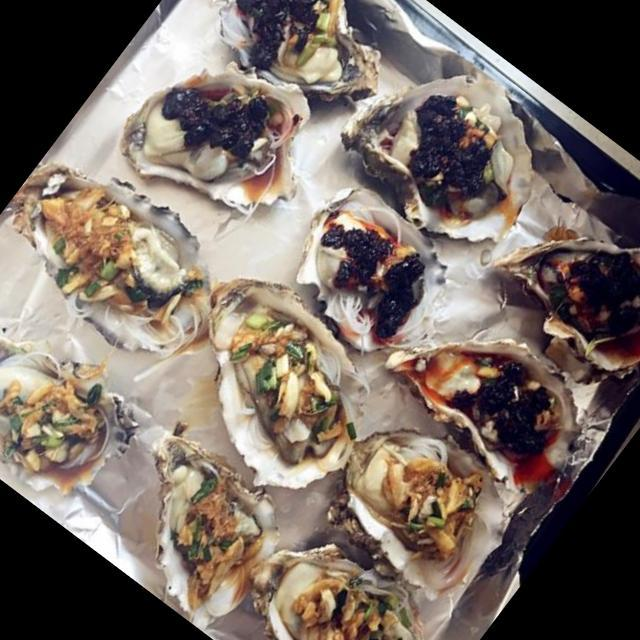Oyster-Open: (136, 252, 412, 525), (318, 19, 582, 275), (0, 128, 258, 384), (98, 7, 349, 255), (366, 281, 618, 518), (300, 390, 540, 620), (80, 418, 305, 640), (258, 165, 484, 380), (468, 171, 640, 409), (202, 500, 464, 640), (0, 302, 154, 530), (198, 0, 417, 130)
